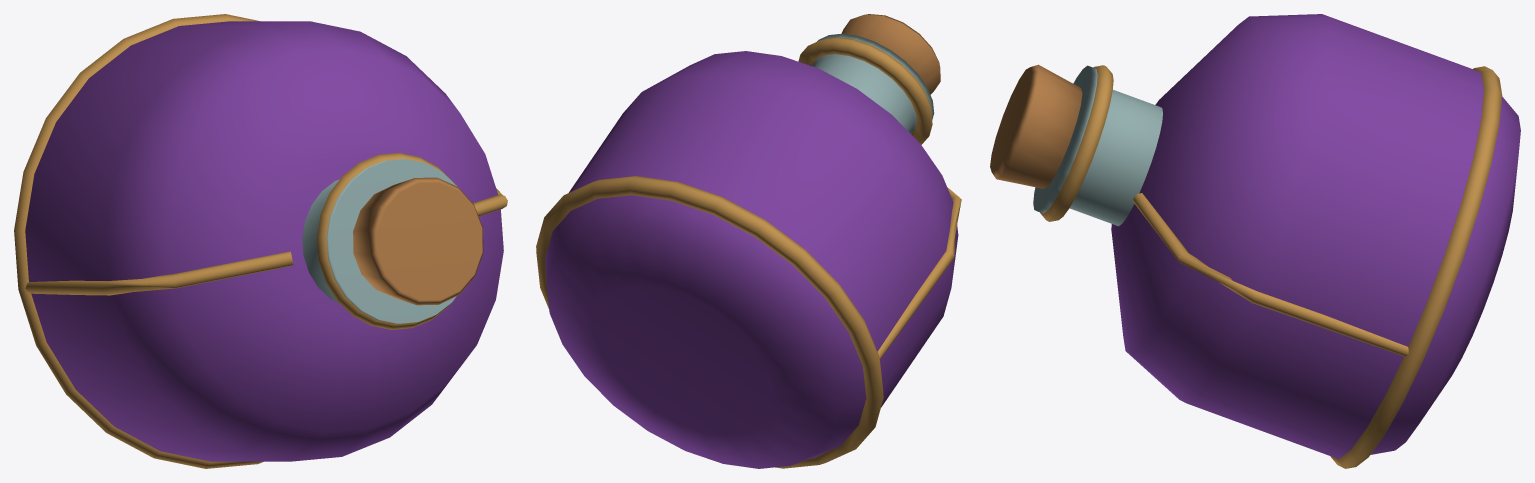
The model's file is rejuv_l.glb.
3 views of the same model, side by side, from view 1: azimuth 30°, elevation 25°; view 2: azimuth 150°, elevation 25°; view 3: azimuth 270°, elevation 25° (orthographic). The views are drawn at different scales.
Parts seen in each view (by area): view 1: SM_rejuv_l; view 2: SM_rejuv_l; view 3: SM_rejuv_l.
Part boxes in pixels (left/top/right/bottom): SM_rejuv_l: left=14, top=14, right=507, bottom=468; SM_rejuv_l: left=536, top=14, right=961, bottom=468; SM_rejuv_l: left=990, top=14, right=1520, bottom=468.
Size of the model in its own units: 0.3587 by 0.3793 by 0.4413.
